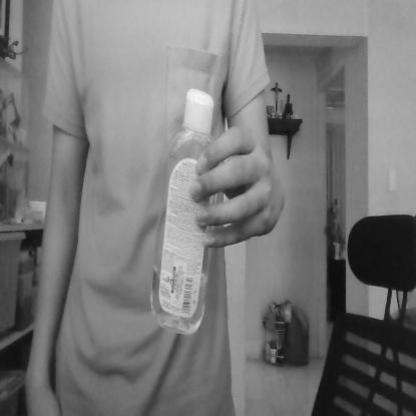Plastic Bottle: (150, 81, 222, 339)
